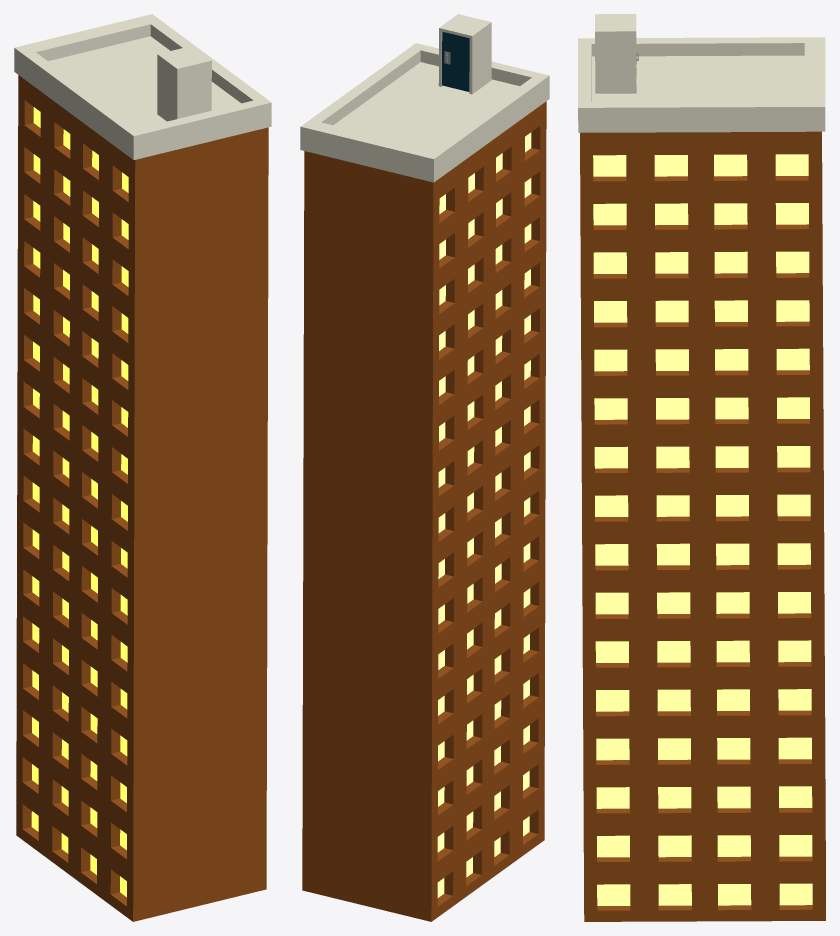
File: building1.fbx
The picture shows the model from 3 angles, left to right: view 1: azimuth 30°, elevation 25°; view 2: azimuth 150°, elevation 25°; view 3: azimuth 270°, elevation 25°; orthographic projection. The views are drawn at different scales.
Parts seen in each view (by area): view 1: buildingbody, top, windowlight, body; view 2: buildingbody, top, windowlight, body, door; view 3: buildingbody, windowlight, top, body.
Part boxes in pixels (<box>): buildingbody: <box>16,75,268,921</box>; top: <box>14,14,271,159</box>; windowlight: <box>31,107,128,897</box>; body: <box>157,46,211,121</box>; buildingbody: <box>302,101,546,921</box>; top: <box>300,43,549,182</box>; windowlight: <box>437,132,531,897</box>; body: <box>438,14,491,94</box>; door: <box>442,32,469,91</box>; buildingbody: <box>580,131,825,921</box>; windowlight: <box>593,154,812,905</box>; top: <box>578,37,825,132</box>; body: <box>595,14,636,93</box>.
Bounding box in the file's own units: 1200 × 6955 × 1804.
